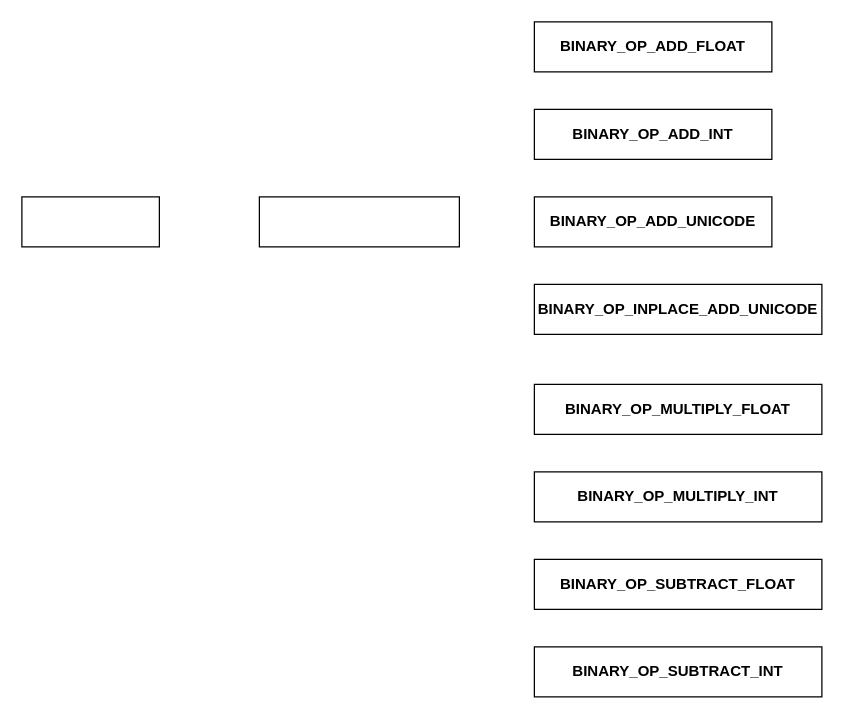
This 844x719 diagram has some shape labels left out. Each missing label, with the centre of its shape:
"BINARY_OP" belongs at (90,221).
"BINARY_OP_ADAPTIVE" belongs at (358,221).
